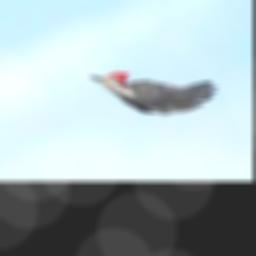Woodpecker: (90, 72, 220, 112)
